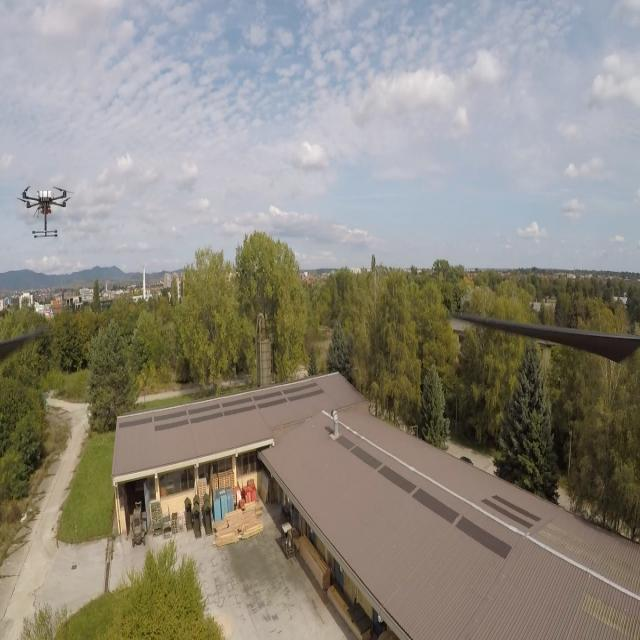UAV: (14, 181, 75, 243)
